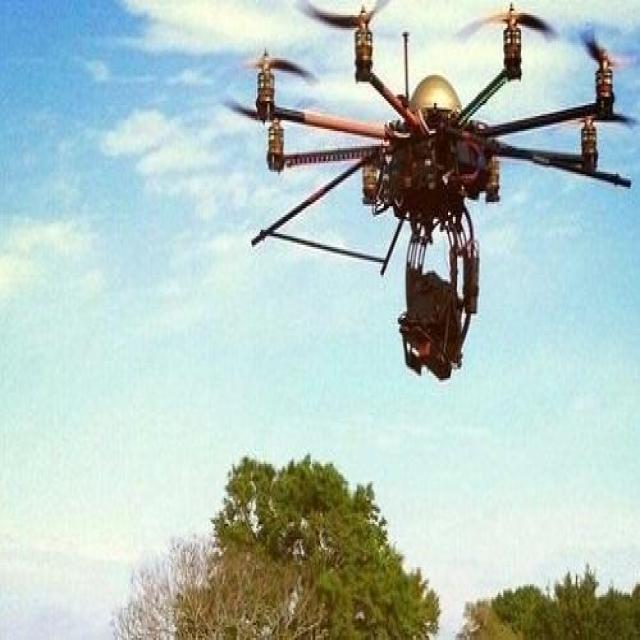drone: (244, 0, 640, 383)
